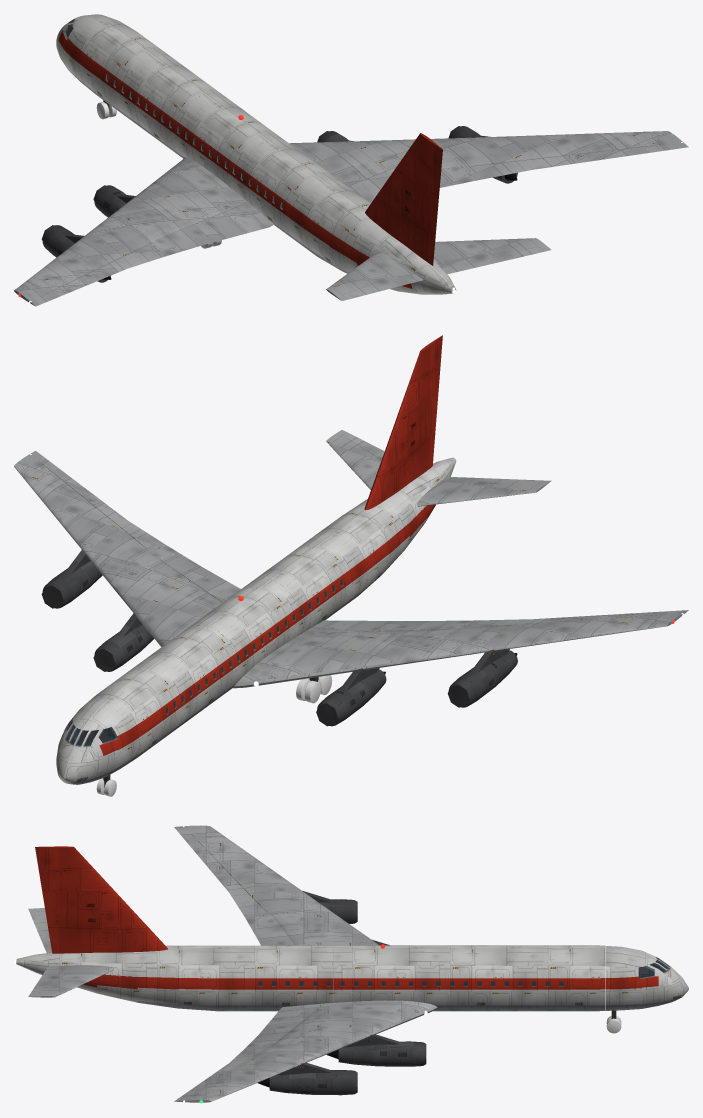
Rendered from airliner.glb.
The picture shows the model from 3 angles, top to bottom: view 1: azimuth 30°, elevation 25°; view 2: azimuth 150°, elevation 25°; view 3: azimuth 270°, elevation 25°; orthographic projection. The views are drawn at different scales.
Visible parts, largest first — view 1: fuselage_cabin_fwd.L0, fuselage_cabin_aft.L0, fuselage_centre.L0, wing_l_inner.L0, fuselage_tail.L0, wing_r_outer.L0, wing_l_outer.L0, fin.L0, wing_r_inner.L0, flap_l.L0, aileron_r.L1, fuselage_nose.L0 (+22 smaller); view 2: fuselage_cabin_fwd.L0, fuselage_cabin_aft.L0, wing_l_inner.L0, fuselage_nose.L0, fuselage_centre.L0, wing_r_outer.L0, wing_r_inner.L0, wing_l_outer.L0, fin.L0, fuselage_tail.L0, wing_l_outer.L1, wing_l_inner.L1 (+16 smaller); view 3: fuselage_cabin_fwd.L0, fuselage_cabin_aft.L0, fuselage_centre.L0, fuselage_tail.L0, fin.L0, fuselage_nose.L0, wing_r_inner.L0, wing_l_outer.L0, wing_r_outer.L0, nacelle_3.L0, nacelle_4.L0, wing_l_inner.L0 (+20 smaller).
Boxes of the visible parts, left/top/right/bottom form: fuselage_cabin_fwd.L0: left=81, top=24, right=222, bottom=158; fuselage_cabin_aft.L0: left=239, top=139, right=370, bottom=269; fuselage_centre.L0: left=175, top=93, right=286, bottom=196; wing_l_inner.L0: left=111, top=157, right=274, bottom=244; fuselage_tail.L0: left=329, top=205, right=456, bottom=294; wing_r_outer.L0: left=431, top=131, right=688, bottom=168; wing_l_outer.L0: left=14, top=215, right=152, bottom=306; fin.L0: left=365, top=133, right=442, bottom=265; wing_r_inner.L0: left=289, top=139, right=463, bottom=183; flap_l.L0: left=154, top=203, right=270, bottom=254; aileron_r.L1: left=470, top=144, right=671, bottom=179; fuselage_nose.L0: left=56, top=14, right=128, bottom=88; fuselage_cabin_fwd.L0: left=92, top=625, right=236, bottom=760; fuselage_cabin_aft.L0: left=253, top=513, right=388, bottom=635; wing_l_inner.L0: left=233, top=620, right=463, bottom=688; fuselage_nose.L0: left=56, top=694, right=142, bottom=784; fuselage_centre.L0: left=189, top=578, right=300, bottom=690; wing_r_outer.L0: left=14, top=450, right=152, bottom=584; wing_r_inner.L0: left=110, top=551, right=215, bottom=646; wing_l_outer.L0: left=422, top=610, right=688, bottom=661; fin.L0: left=364, top=335, right=442, bottom=510; fuselage_tail.L0: left=341, top=457, right=456, bottom=573; wing_l_outer.L1: left=423, top=610, right=688, bottom=657; wing_l_inner.L1: left=236, top=620, right=475, bottom=688; fuselage_cabin_fwd.L0: left=443, top=945, right=604, bottom=1011; fuselage_cabin_aft.L0: left=180, top=945, right=333, bottom=1011; fuselage_centre.L0: left=333, top=945, right=442, bottom=1011; fuselage_tail.L0: left=16, top=945, right=179, bottom=1008; fin.L0: left=35, top=846, right=167, bottom=953; fuselage_nose.L0: left=605, top=946, right=688, bottom=1010; wing_r_inner.L0: left=267, top=1000, right=437, bottom=1049; wing_l_outer.L0: left=174, top=825, right=336, bottom=915; wing_r_outer.L0: left=174, top=1043, right=339, bottom=1102; nacelle_3.L0: left=338, top=1034, right=425, bottom=1066; nacelle_4.L0: left=269, top=1063, right=356, bottom=1095; wing_l_inner.L0: left=267, top=912, right=378, bottom=980.
Size of the model in its own units: 40.05 by 12.47 by 41.45.
21 materials, 14 textured.
